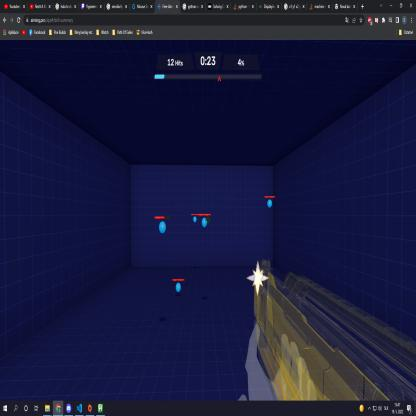sphere: (159, 220, 167, 235), (266, 198, 273, 209), (201, 218, 208, 228), (176, 282, 181, 293), (193, 216, 197, 223)
